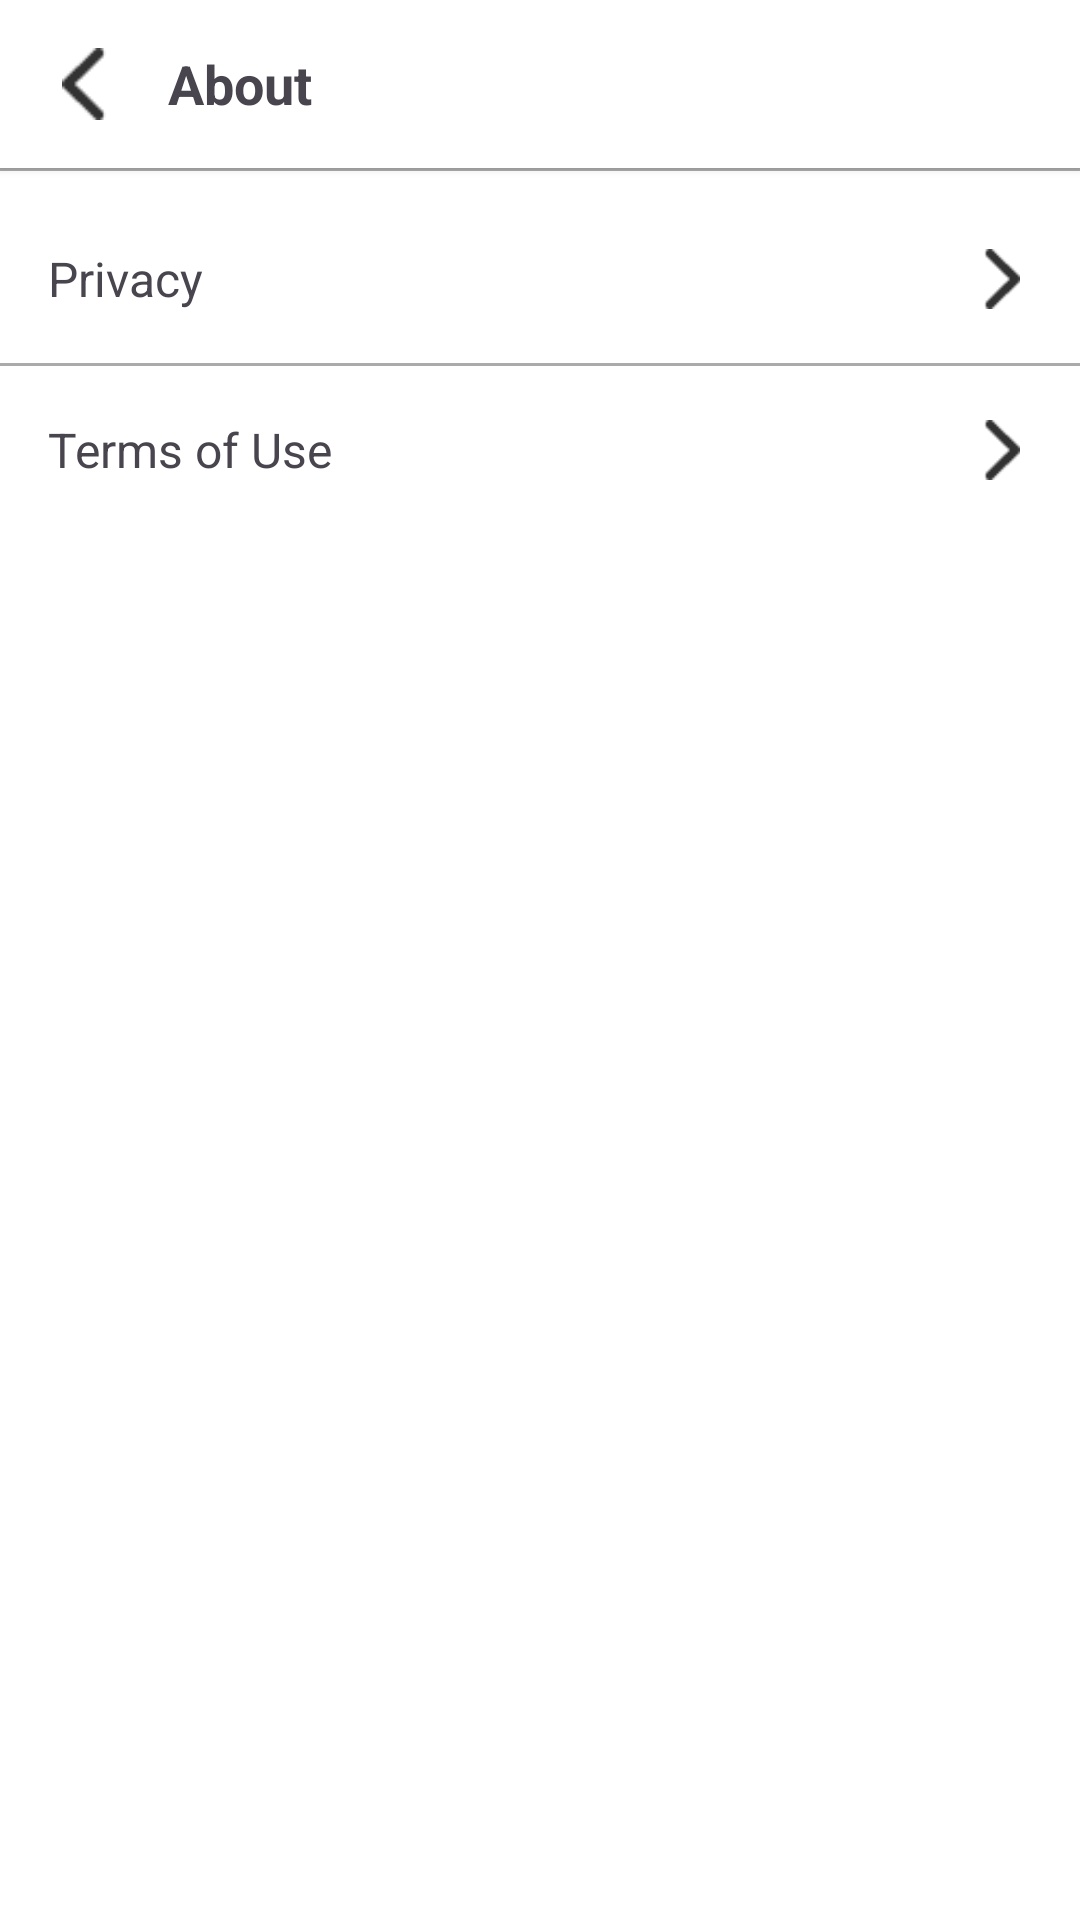

Point at icon controls on the screen. Image size 1080 × 1920, points as [x,y].
Back: [83,84]
Go: [1002,279], [1002,450]
